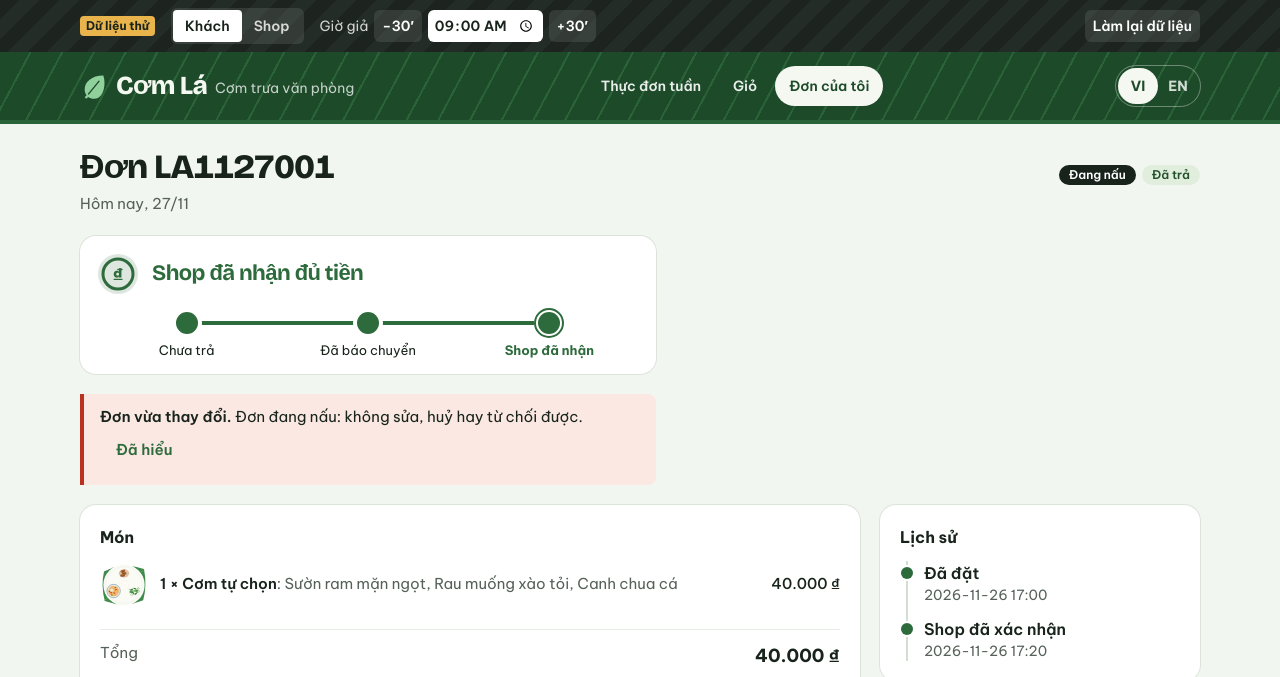
Test: an open edit blocked by someone else (BR-28a) › BR-28a: when the shop starts preparing an order while its edit is open, the customer sees that it has just changed and why
Expected: the text "Đơn vừa thay đổi." is shown, x1=100 y1=407 x2=232 y2=426
Expected: the text "Đơn đang nấu: không sửa, huỷ hay từ chối được." is shown, x1=235 y1=407 x2=583 y2=426
Click the button "Đã hiểu" at (144, 451), box x1=100 y1=429 x2=188 y2=473
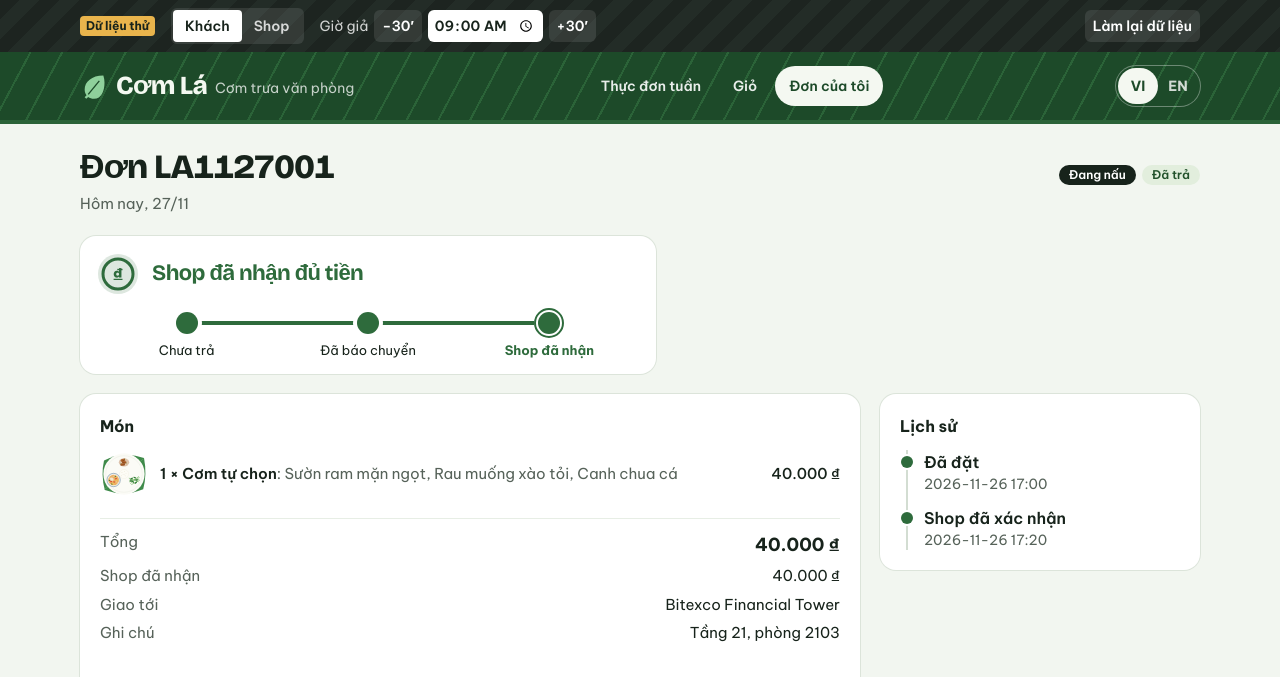
Expected: the text "Đơn vừa thay đổi." is gone
